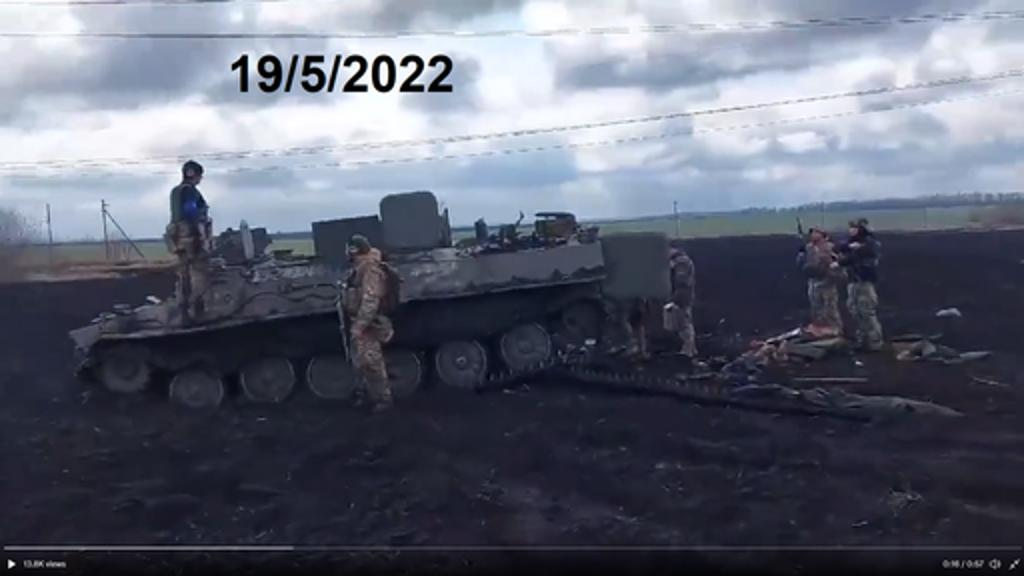APC-IFV: (50, 194, 634, 422)
